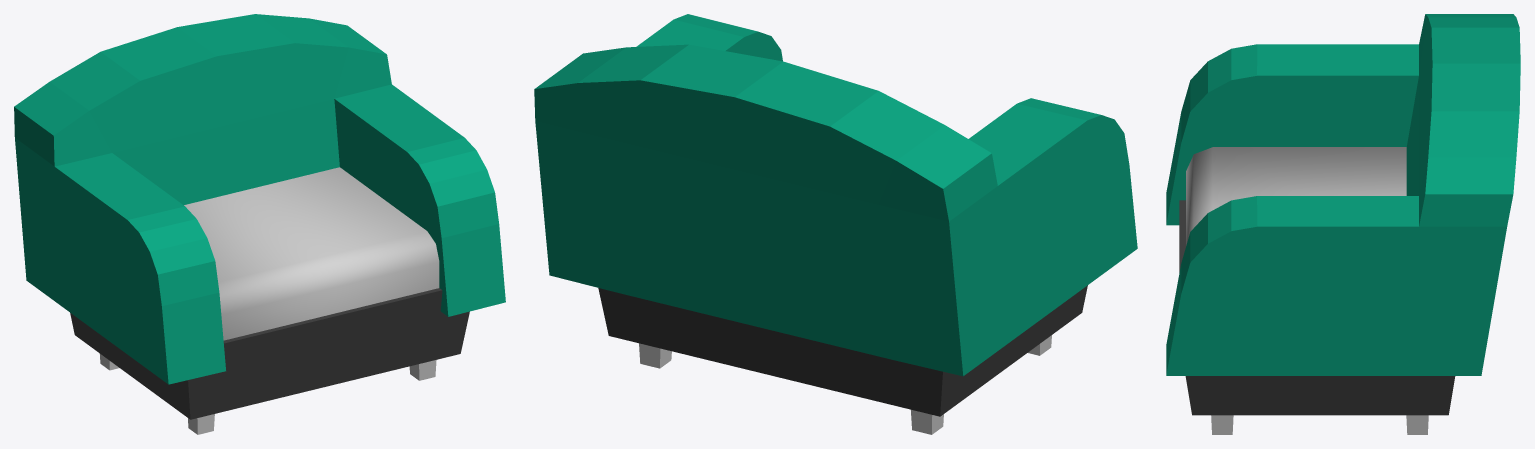
Rendered from Sofa 1 Alt.fbx.
3 views of the same model, side by side, from view 1: azimuth 30°, elevation 25°; view 2: azimuth 150°, elevation 25°; view 3: azimuth 270°, elevation 25° (orthographic). The views are drawn at different scales.
Parts seen in each view (by area): view 1: Sofa 1 Alt; view 2: Sofa 1 Alt; view 3: Sofa 1 Alt.
Boxes of the visible parts, <box> form: Sofa 1 Alt: <box>14,14,505,434</box>; Sofa 1 Alt: <box>534,14,1137,434</box>; Sofa 1 Alt: <box>1166,14,1520,434</box>.
Bounding box in the file's own units: 115 × 90.05 × 94.22.
